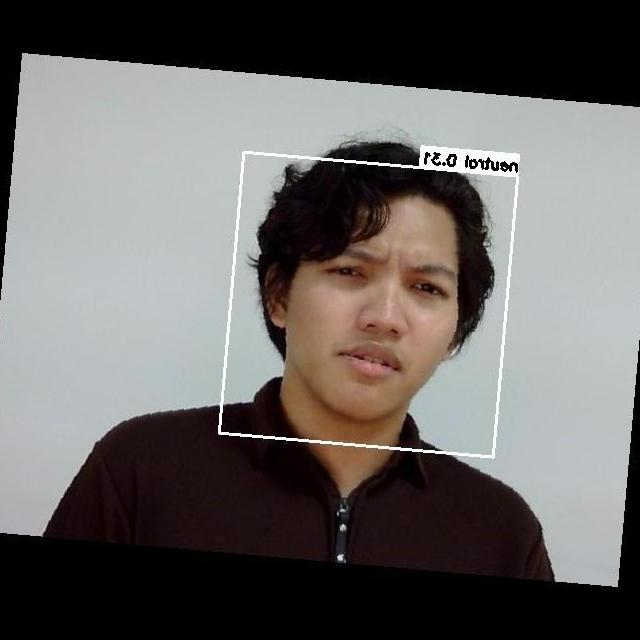Fear: (298, 226, 478, 413)
